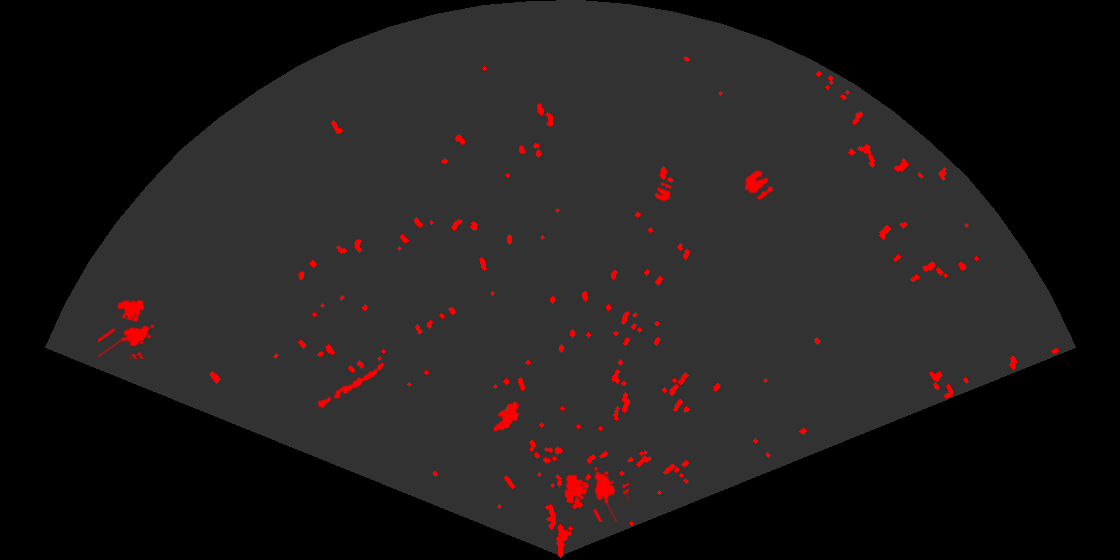AUV: (492, 400, 521, 433)
ball: (743, 169, 775, 202), (653, 180, 674, 203)
cage: (563, 465, 629, 522), (98, 298, 156, 359)
chain: (313, 361, 386, 412)
